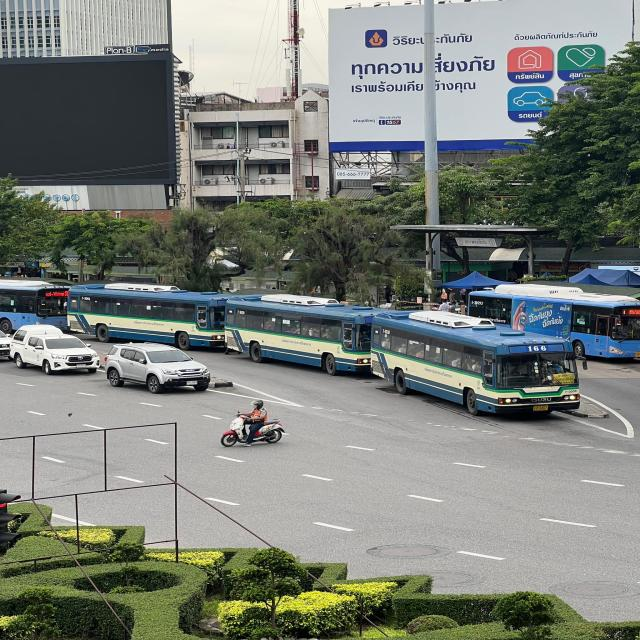BMTA-bus: (370, 307, 581, 419), (466, 283, 640, 363), (224, 292, 372, 377), (65, 281, 228, 352), (0, 278, 66, 333)
Bus-Line-Number: (527, 344, 548, 352)
Destination-Sign-Normal-Expressway: (552, 373, 574, 384)
